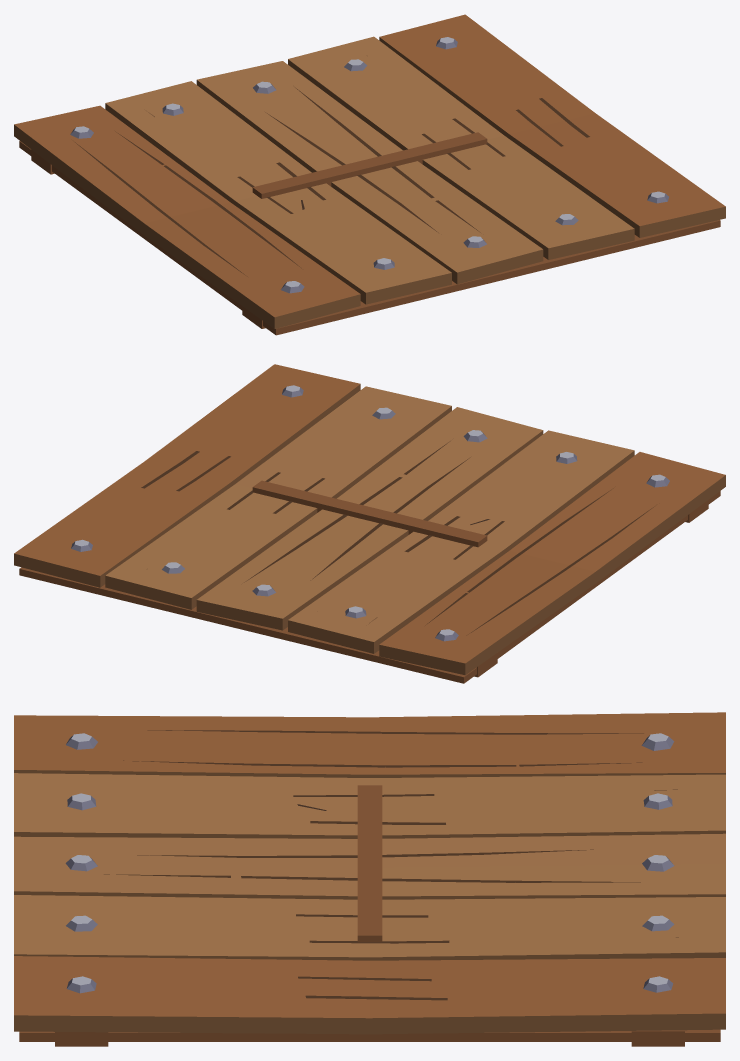
Rendered from floor_plank_tiles_crack1.glb.
The picture shows the model from 3 angles, top to bottom: view 1: azimuth 30°, elevation 25°; view 2: azimuth 150°, elevation 25°; view 3: azimuth 270°, elevation 25°; orthographic projection. The views are drawn at different scales.
Visible parts, largest first — view 1: Q1, Q0, Q3, Q2, Trim; view 2: Q3, Q2, Q1, Q0, Trim; view 3: Q0, Q2, Q3, Q1, Trim.
Part boxes in pixels (x1=…): Q1: x1=144, y1=171, x2=500, y2=335; Q0: x1=375, y1=113, x2=725, y2=280; Q3: x1=14, y1=70, x2=359, y2=241; Q2: x1=240, y1=14, x2=595, y2=160; Trim: x1=252, y1=132, x2=487, y2=198; Q3: x1=239, y1=520, x2=595, y2=683; Q2: x1=14, y1=461, x2=364, y2=629; Q1: x1=380, y1=418, x2=725, y2=589; Q0: x1=144, y1=364, x2=499, y2=509; Trim: x1=252, y1=480, x2=487, y2=547; Q0: x1=14, y1=859, x2=369, y2=1046; Q2: x1=370, y1=859, x2=725, y2=1046; Q3: x1=370, y1=712, x2=725, y2=867; Q1: x1=14, y1=715, x2=369, y2=867; Trim: x1=357, y1=785, x2=382, y2=942.
Bounding box in the file's own units: 4 × 0.2711 × 4.
